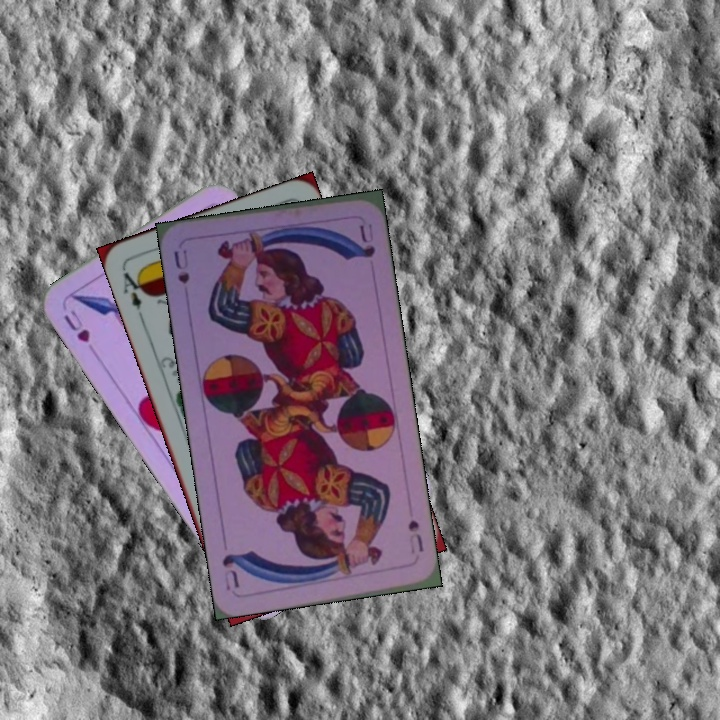EA: (118, 265, 150, 313)
HU: (59, 305, 93, 345)
SU: (169, 245, 192, 286), (404, 515, 427, 555)
